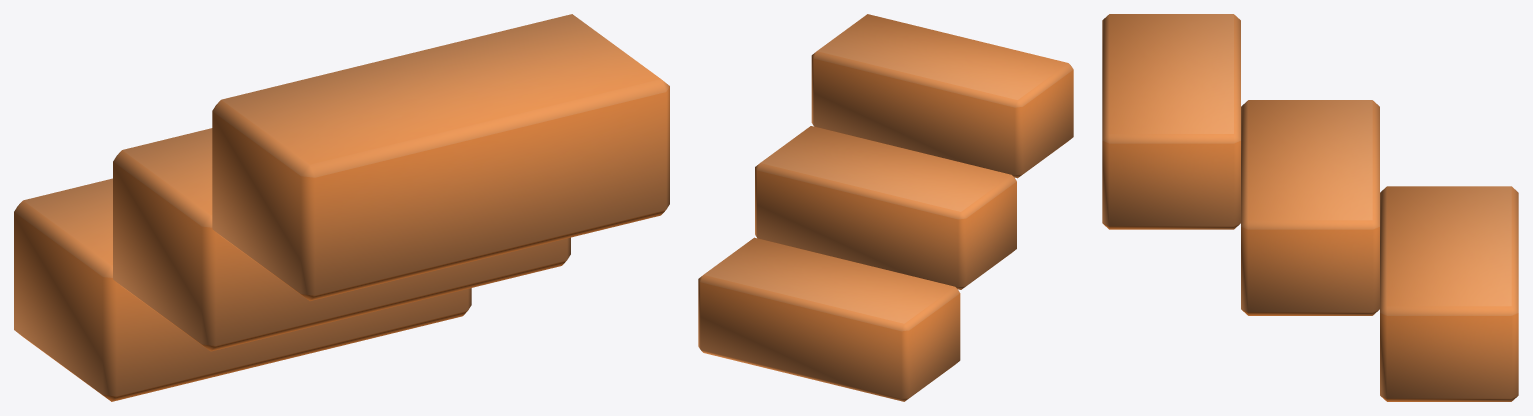
Rendered from stairs.fbx.
The picture shows the model from 3 angles, left to right: view 1: azimuth 30°, elevation 25°; view 2: azimuth 150°, elevation 25°; view 3: azimuth 270°, elevation 25°; orthographic projection. The views are drawn at different scales.
Visible parts, largest first — view 1: stairs; view 2: stairs; view 3: stairs.
Boxes of the visible parts, box(x1,y1,x2,y2) form: stairs: box(14, 14, 669, 401); stairs: box(698, 14, 1073, 401); stairs: box(1102, 14, 1518, 401).
Size of the model in its own units: 96.07 by 134 by 95.13.
